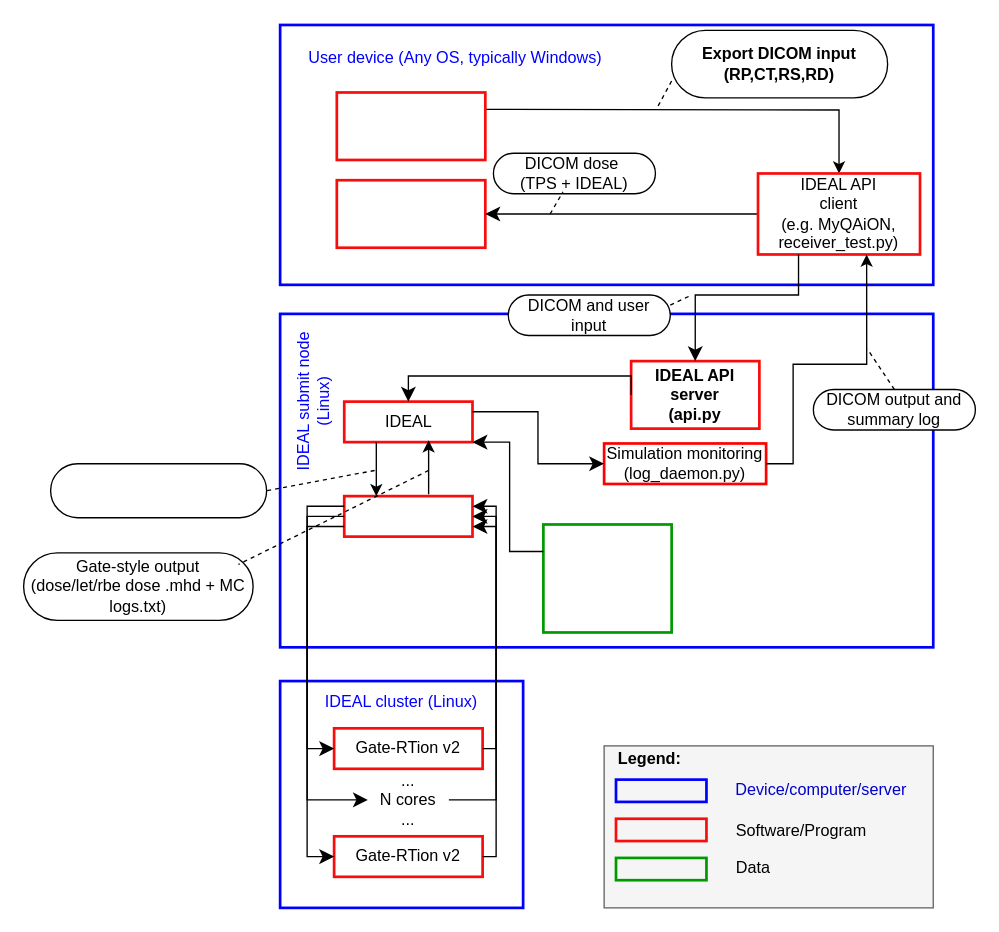
Some shapes in this 999 by 932 pixel diagram are drawn without their labels. The centre of each missing label's shape, as x and y in pixels:
Analysis (e.g. TPS, in house): point (410, 213)
Beamline data CT HLUT data Cluster settings Physics settings: point (606, 577)
Gate-RTion JSON input files: point (158, 490)
HTCondor: point (407, 515)
TPS (RayStation): point (410, 125)
